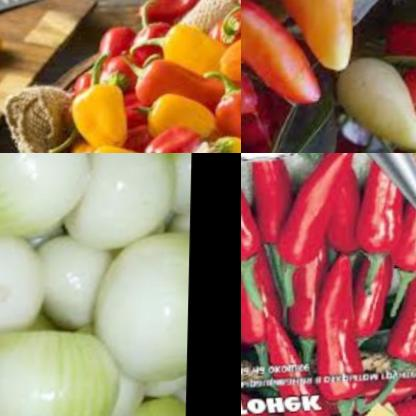bell pepper: (65, 0, 241, 153), (0, 20, 12, 67)
hot pepper: (241, 153, 416, 416), (241, 0, 416, 153)
onion: (0, 153, 194, 416)
